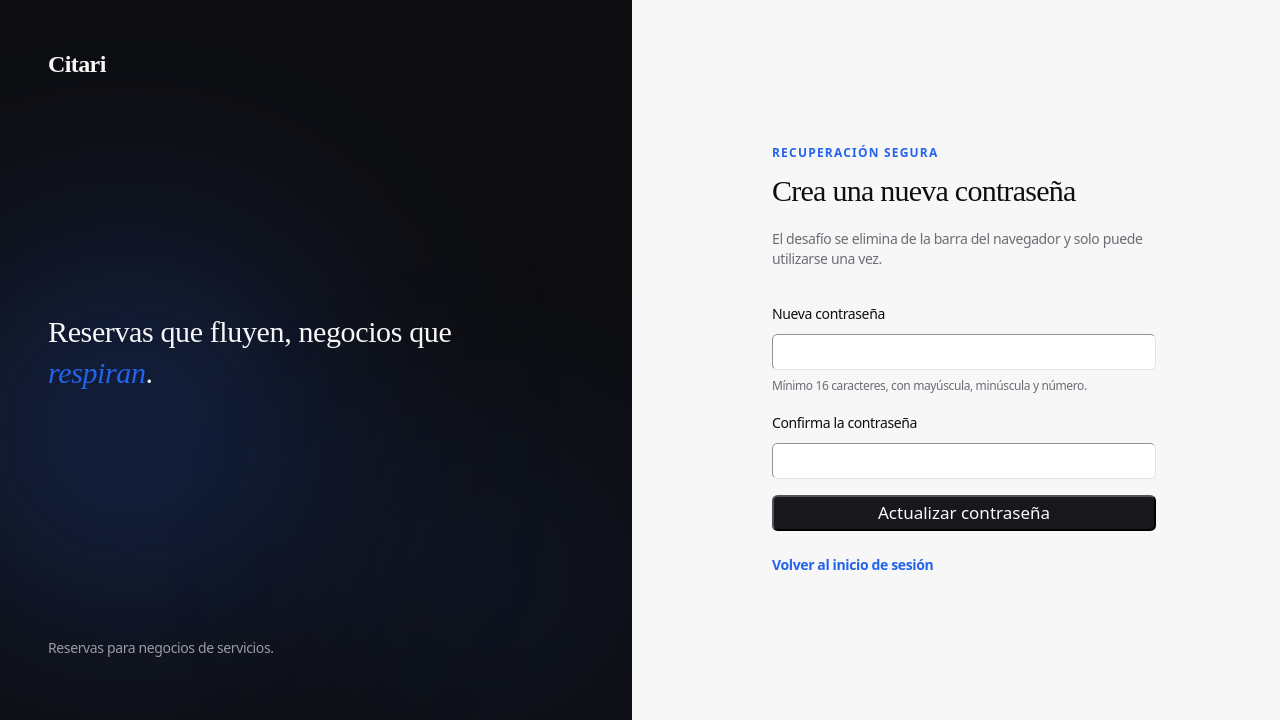
Test: identity recovery pages › reads the reset token from the URL fragment, removes it, and updates the password
Type "RecoveredPassword2027A" into the password field labelled "Nueva contraseña" at (964, 352), box [772,334,1156,370]
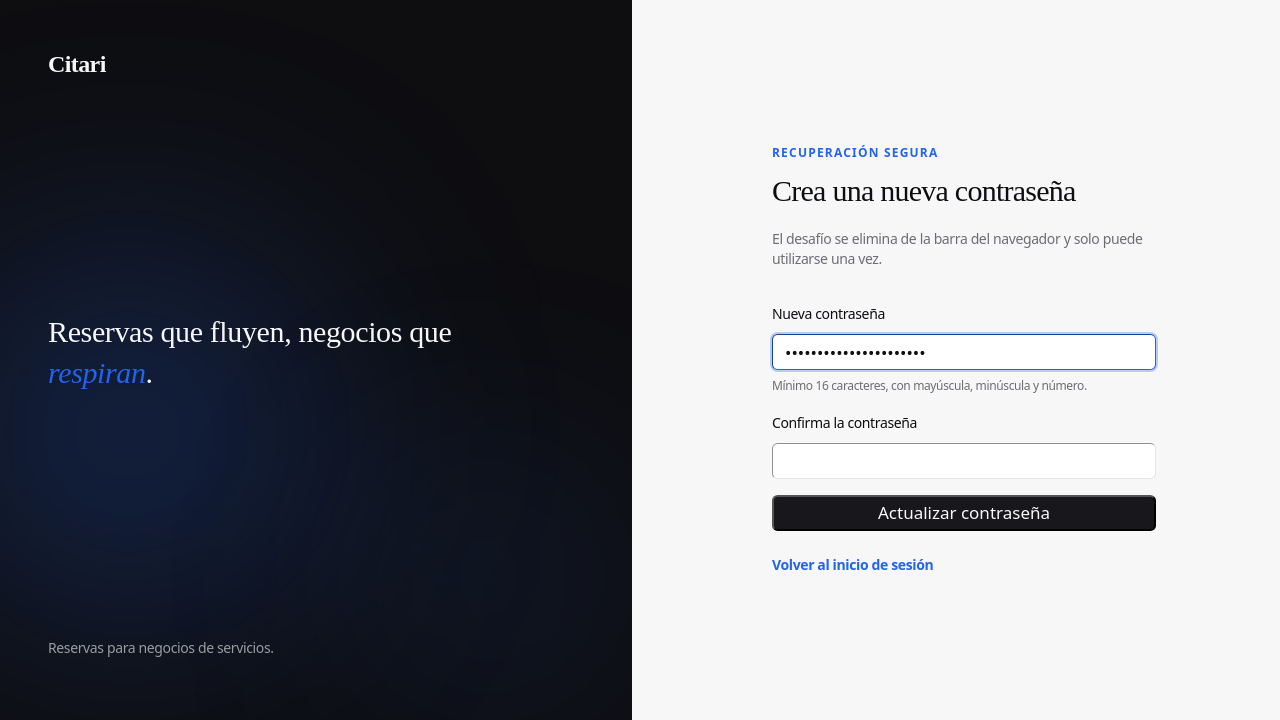
Type "RecoveredPassword2027A" into the password field labelled "Confirma la contraseña" at (964, 461), box [772,443,1156,479]
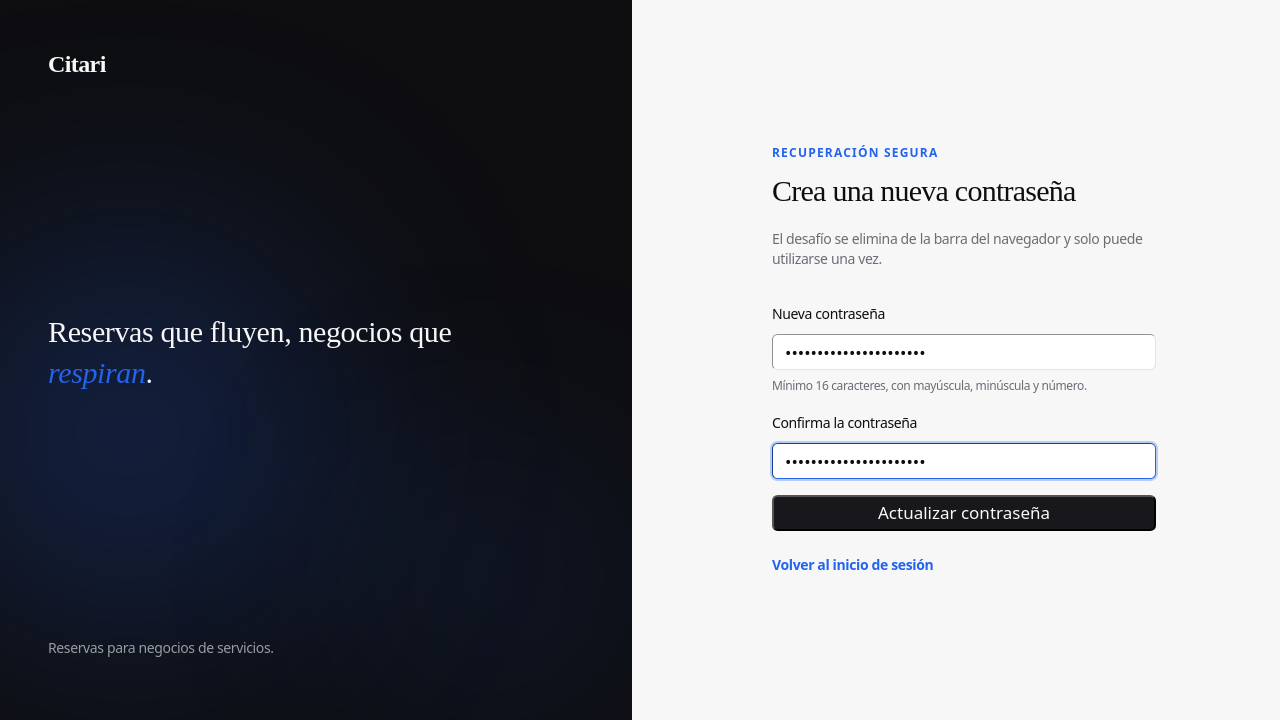
Click the button "Actualizar contraseña" at (964, 513), box [772,495,1156,531]
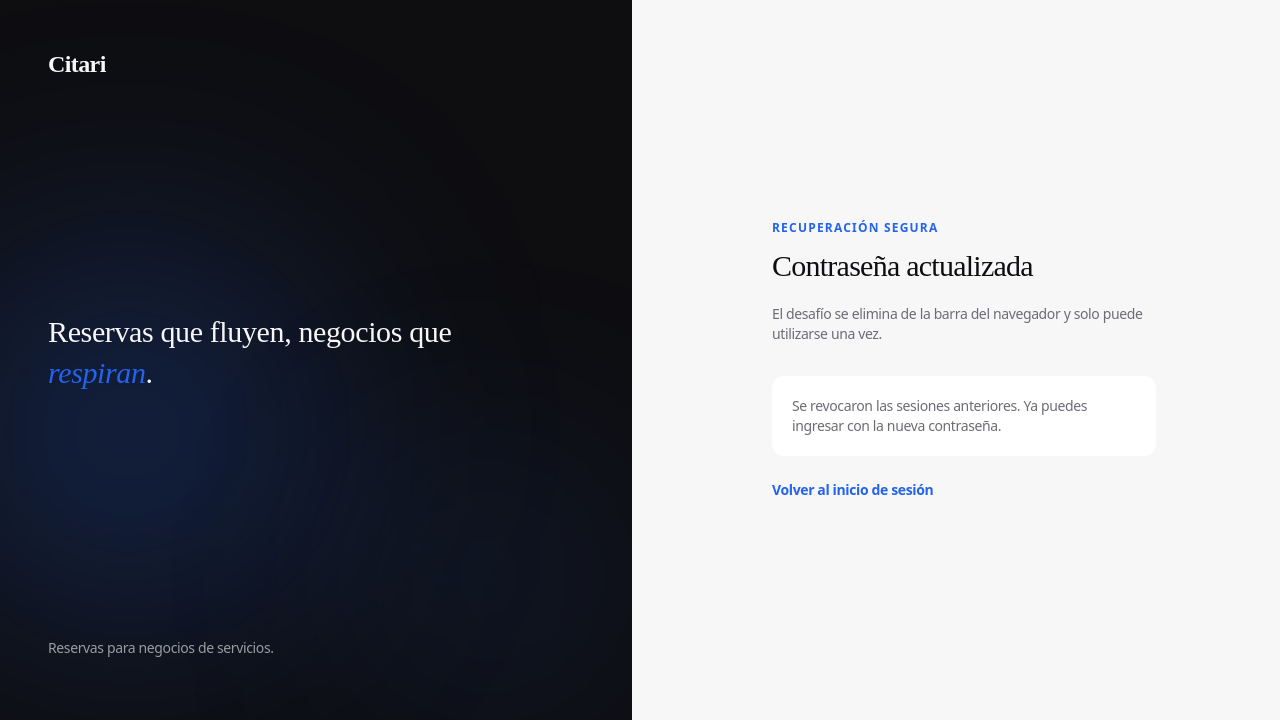
expect the message shows "Se revocaron las sesiones anteriores": met, box [792,396,1087,435]
